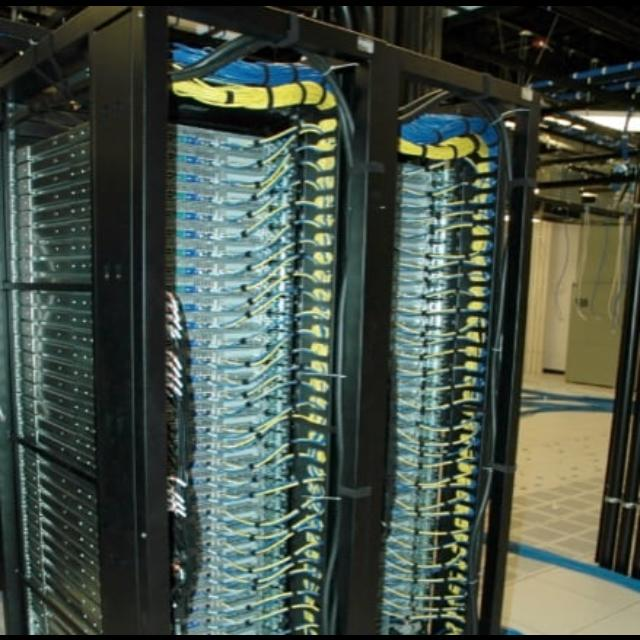Server: (1, 6, 366, 634), (366, 41, 550, 634)
